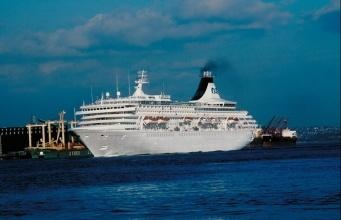youlun: (65, 61, 263, 158)
